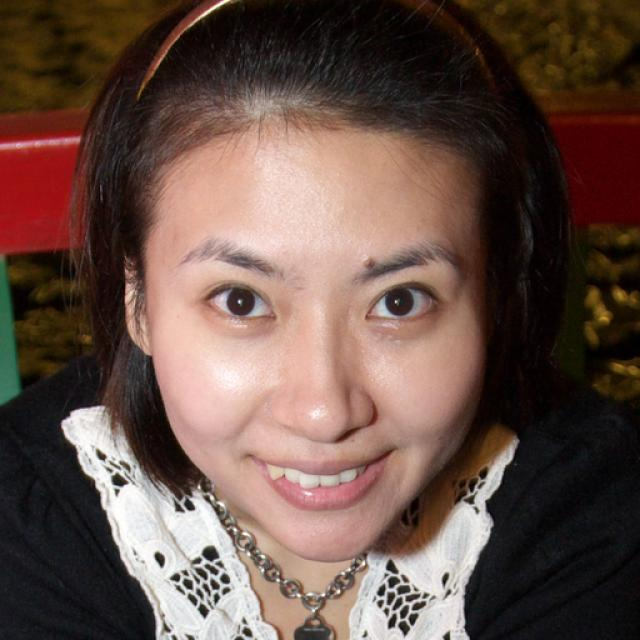Acne: (349, 252, 383, 273)
